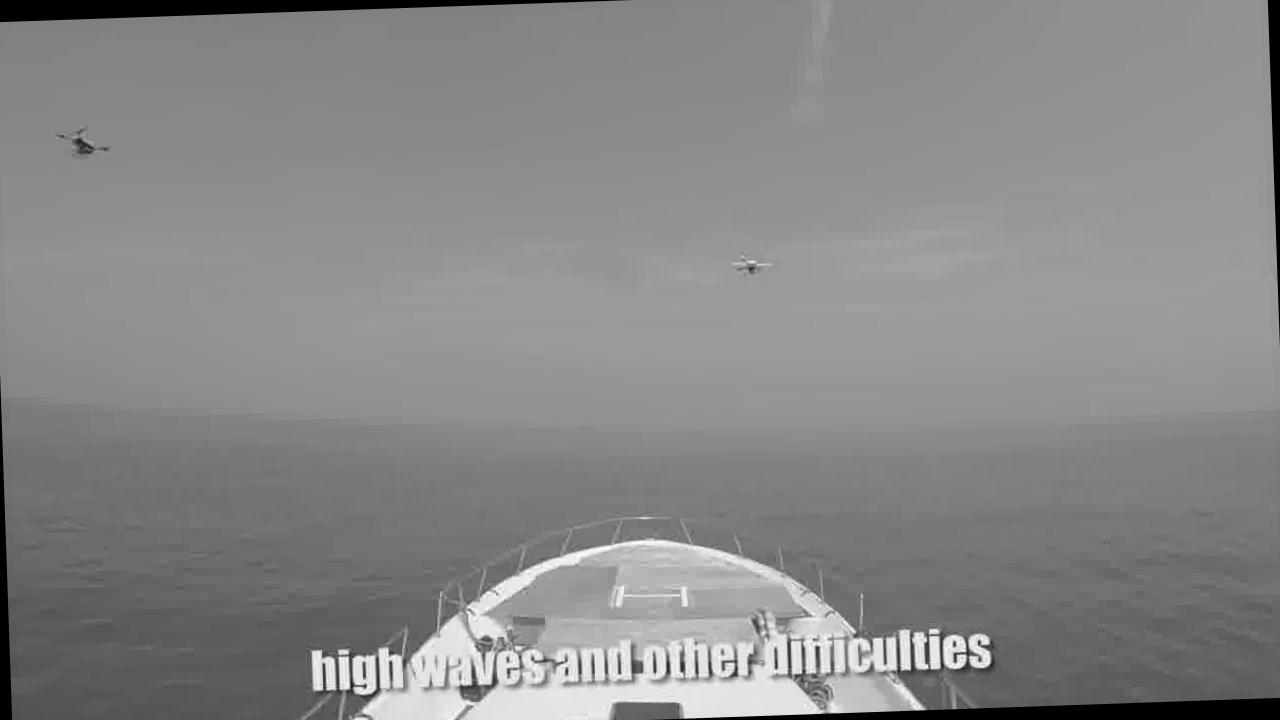drone: (50, 120, 111, 166), (726, 248, 778, 281)
